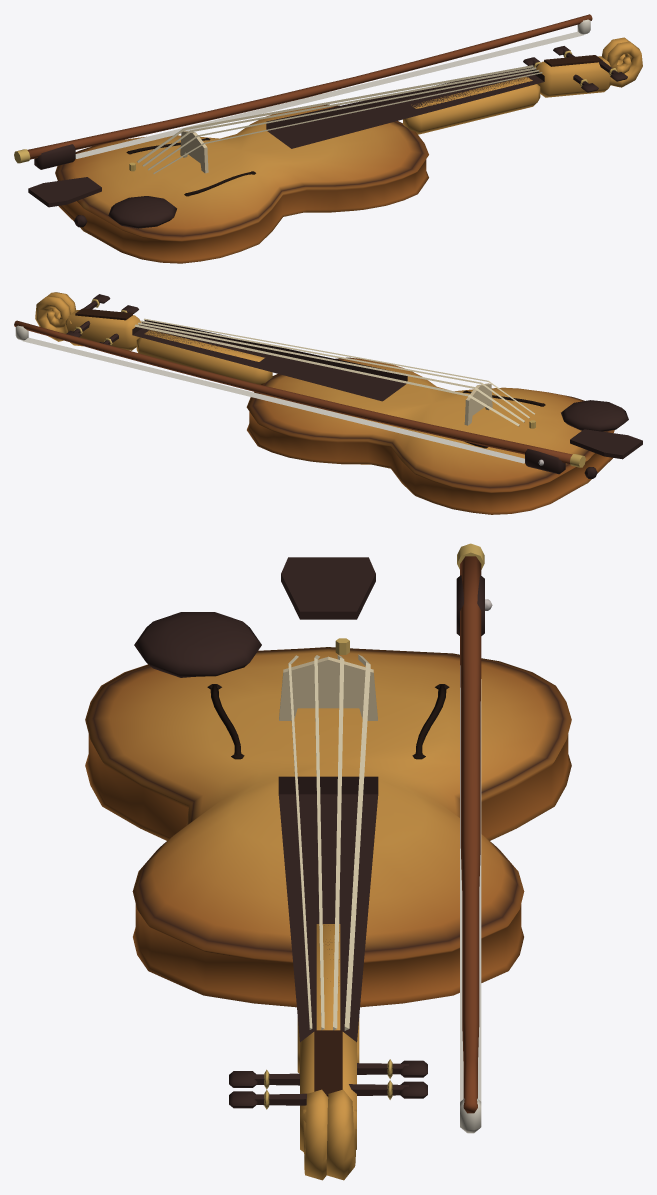
Rendered from fiddle.glb.
3 views of the same model, one above another, from view 1: azimuth 30°, elevation 25°; view 2: azimuth 150°, elevation 25°; view 3: azimuth 270°, elevation 25° (orthographic). The views are drawn at different scales.
Parts seen in each view (by area): view 1: fiddle; view 2: fiddle; view 3: fiddle.
Boxes of the visible parts, bbox=[...] form: fiddle: bbox=[14, 14, 642, 263]; fiddle: bbox=[14, 292, 642, 514]; fiddle: bbox=[85, 543, 571, 1180].
Size of what is drawn, in the model's own units: 0.62 by 0.08 by 0.22.
